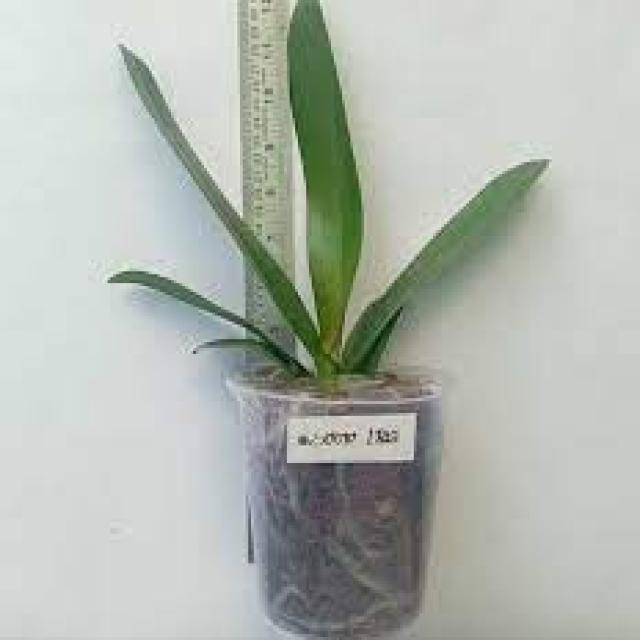leaf: (169, 114, 319, 360), (286, 0, 363, 317), (384, 158, 543, 304), (109, 268, 298, 369)
plant: (78, 22, 580, 639)
pot: (212, 331, 452, 639)
